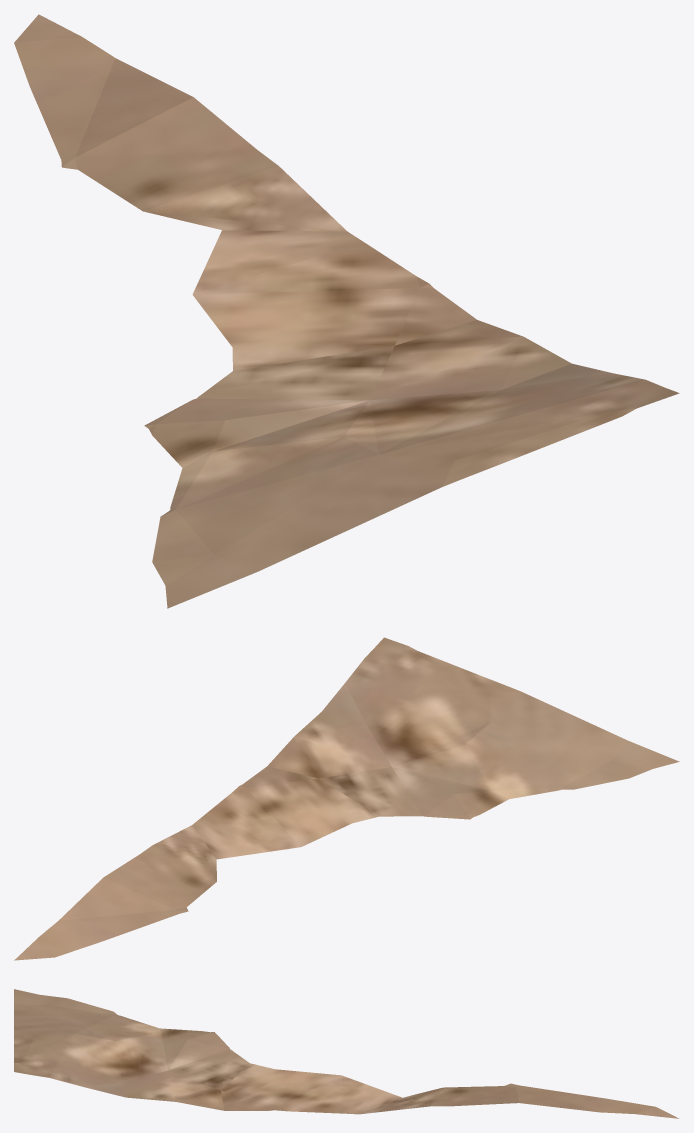
The picture shows the model from 3 angles, top to bottom: view 1: azimuth 30°, elevation 25°; view 2: azimuth 150°, elevation 25°; view 3: azimuth 270°, elevation 25°; orthographic projection. The views are drawn at different scales.
Size of the model in its own units: 0.2483 by 0.0418 by 0.5381.
Materials: 1 (1 with a texture image).
